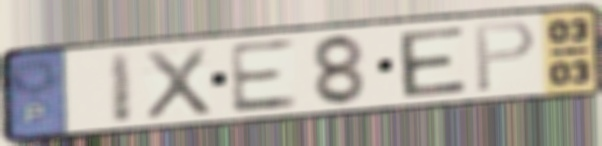8: (309, 32, 369, 107)
E: (225, 36, 301, 116), (394, 24, 470, 100)
I: (106, 48, 136, 127)
P: (472, 18, 539, 96)
X: (142, 44, 215, 123)
